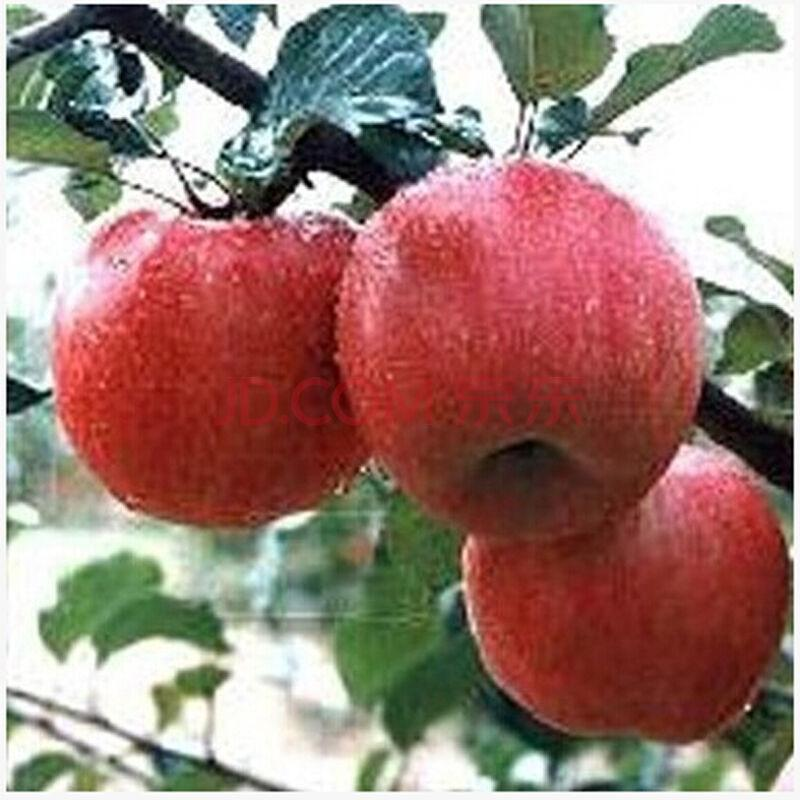apple: (336, 161, 703, 545), (55, 205, 372, 534), (461, 440, 794, 747)
